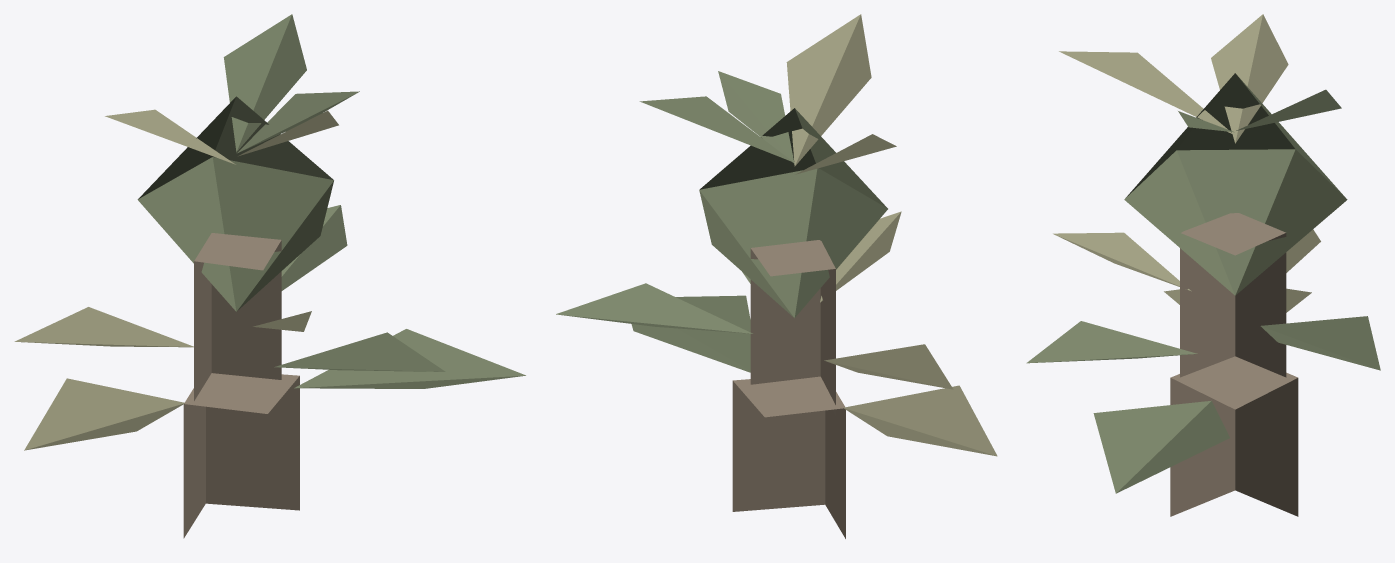
Rendered from shui.lian@seedling__winter.glb.
3 views of the same model, side by side, from view 1: azimuth 30°, elevation 25°; view 2: azimuth 150°, elevation 25°; view 3: azimuth 270°, elevation 25° (orthographic). The views are drawn at different scales.
Parts seen in each view (by area): view 1: shui.lian@seedling__winter; view 2: shui.lian@seedling__winter; view 3: shui.lian@seedling__winter.
Part boxes in pixels (box(x1,y1,x2,y2)): shui.lian@seedling__winter: box(14, 14, 525, 538); shui.lian@seedling__winter: box(556, 14, 997, 538); shui.lian@seedling__winter: box(1026, 14, 1380, 516).
Size of the model in its own units: 0.1182 by 0.117 by 0.0793.
